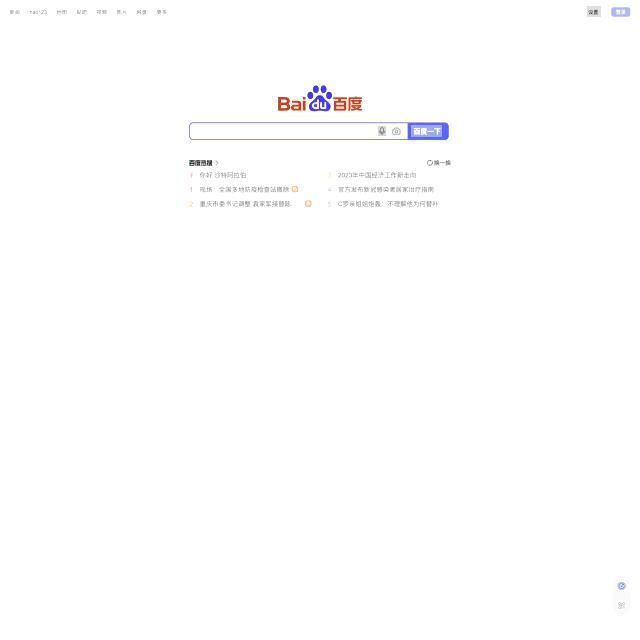CheckBox: (408, 122, 452, 140), (610, 4, 633, 20), (587, 6, 601, 17)
CheckedTextView: (188, 122, 408, 142)
QR code: (186, 168, 442, 218)
carousel: (390, 126, 403, 137), (616, 582, 626, 594), (616, 600, 626, 610), (378, 126, 386, 136)
data feed: (413, 125, 444, 137)
date picker: (271, 79, 368, 116)
decoration: (3, 4, 171, 20)
